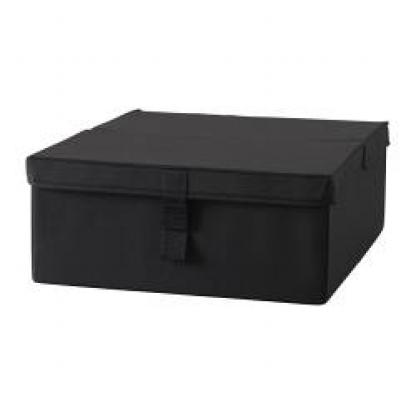Sofa: (20, 100, 393, 309)
